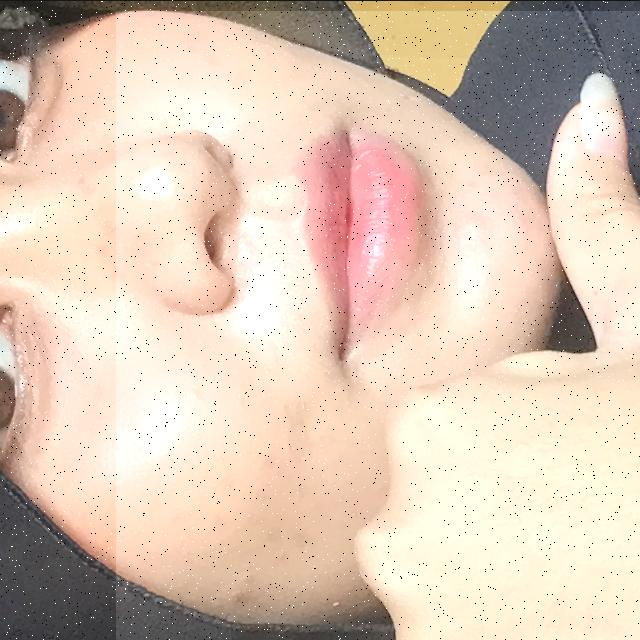telpon: (116, 10, 640, 640)
